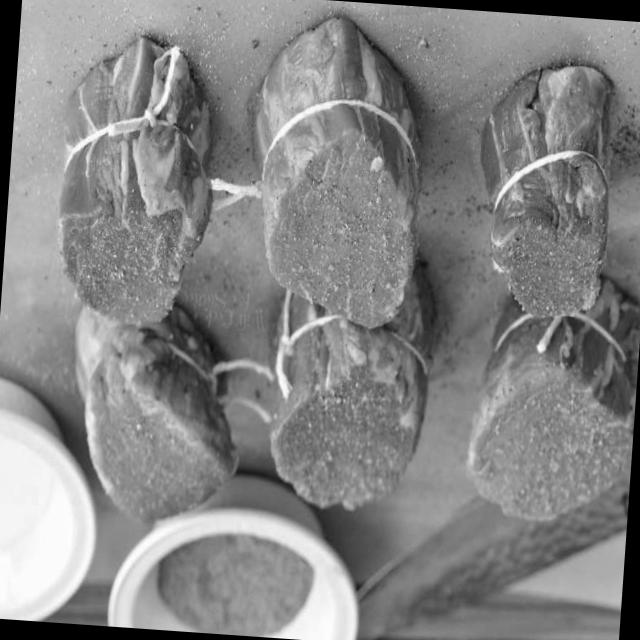than bit tet: (234, 17, 428, 324), (48, 31, 222, 335), (462, 289, 640, 521), (72, 288, 245, 522), (465, 60, 617, 317), (260, 272, 416, 494)
